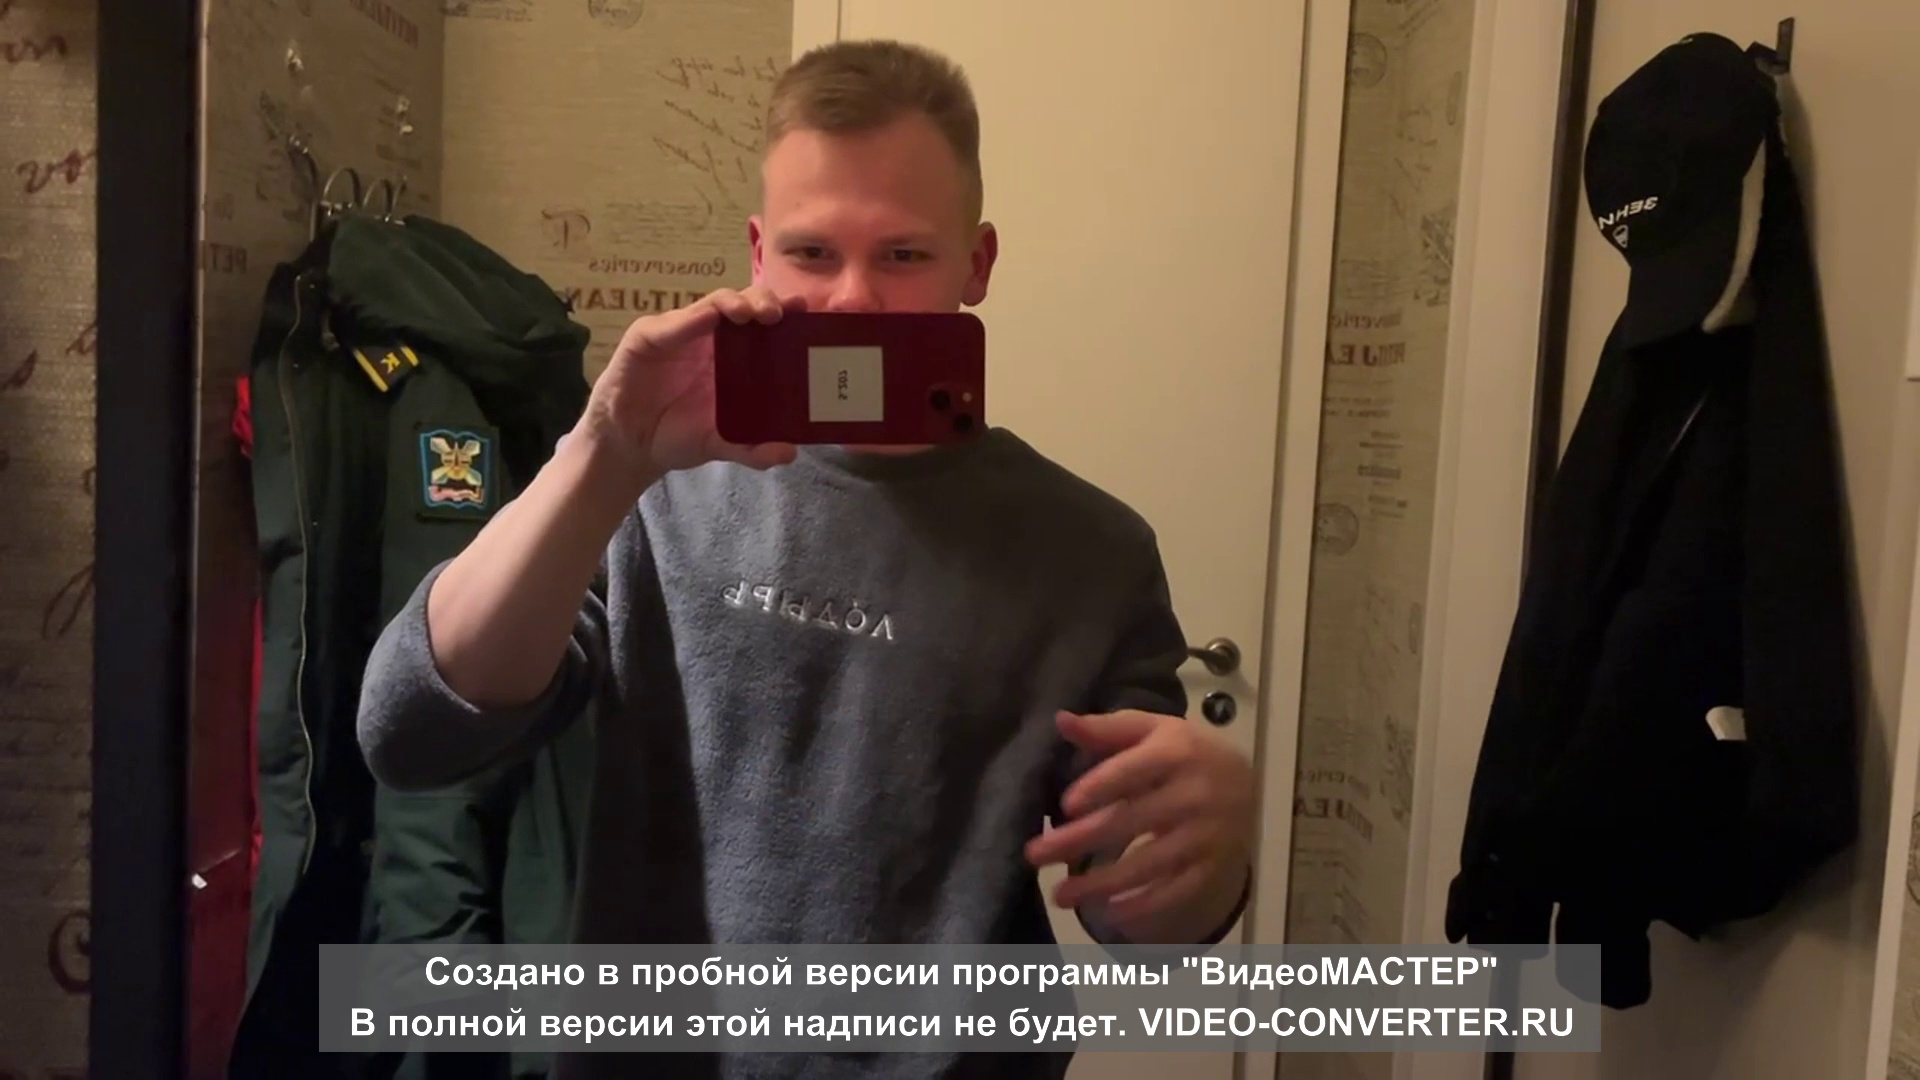Кисть: (1027, 709, 1257, 922)
